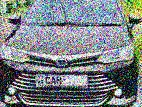car: (0, 1, 139, 107)
